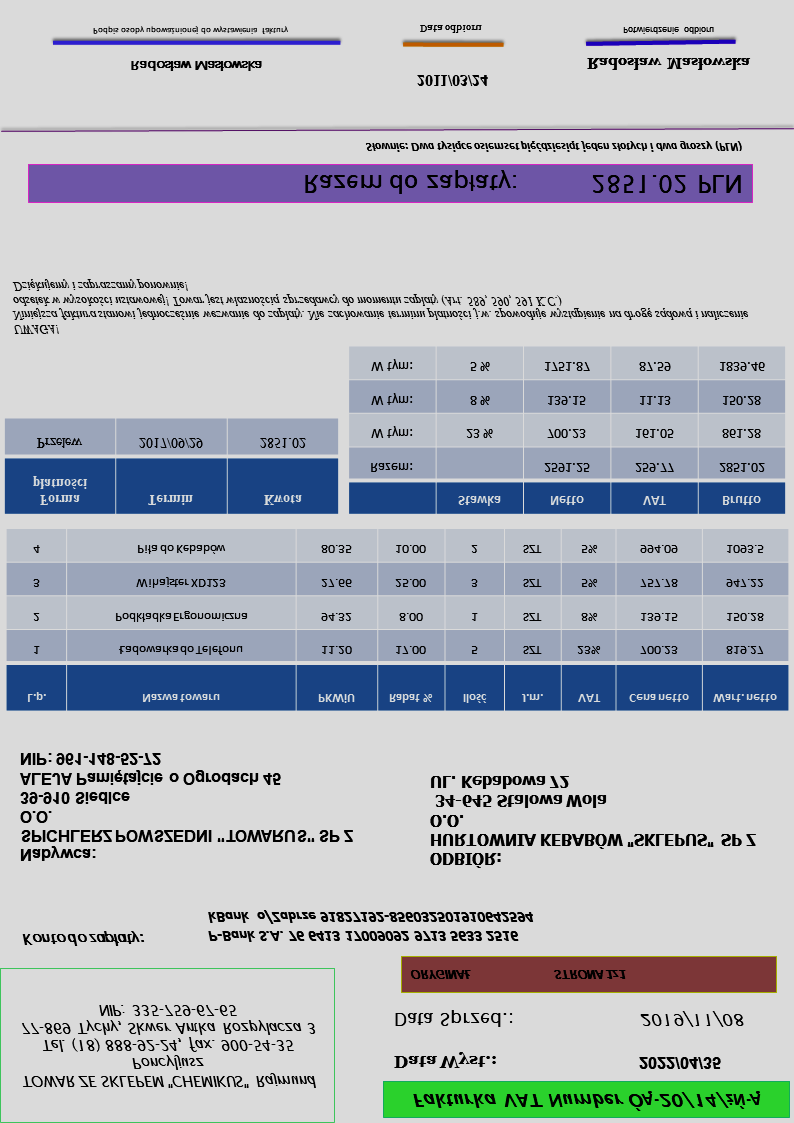Table: (4, 529, 789, 715), (345, 346, 786, 518), (4, 418, 338, 515)
TextBox: (12, 276, 754, 341), (16, 748, 358, 867), (425, 771, 761, 871), (15, 999, 321, 1096), (301, 167, 744, 199), (203, 906, 539, 947), (407, 1086, 765, 1113), (362, 136, 746, 158), (405, 963, 631, 985), (583, 52, 751, 74), (90, 23, 293, 41), (17, 927, 147, 953), (390, 1006, 517, 1031), (636, 1008, 748, 1032), (390, 1049, 501, 1073), (126, 58, 266, 76), (635, 1053, 723, 1075), (411, 70, 492, 91), (621, 22, 718, 38), (416, 20, 485, 38)
